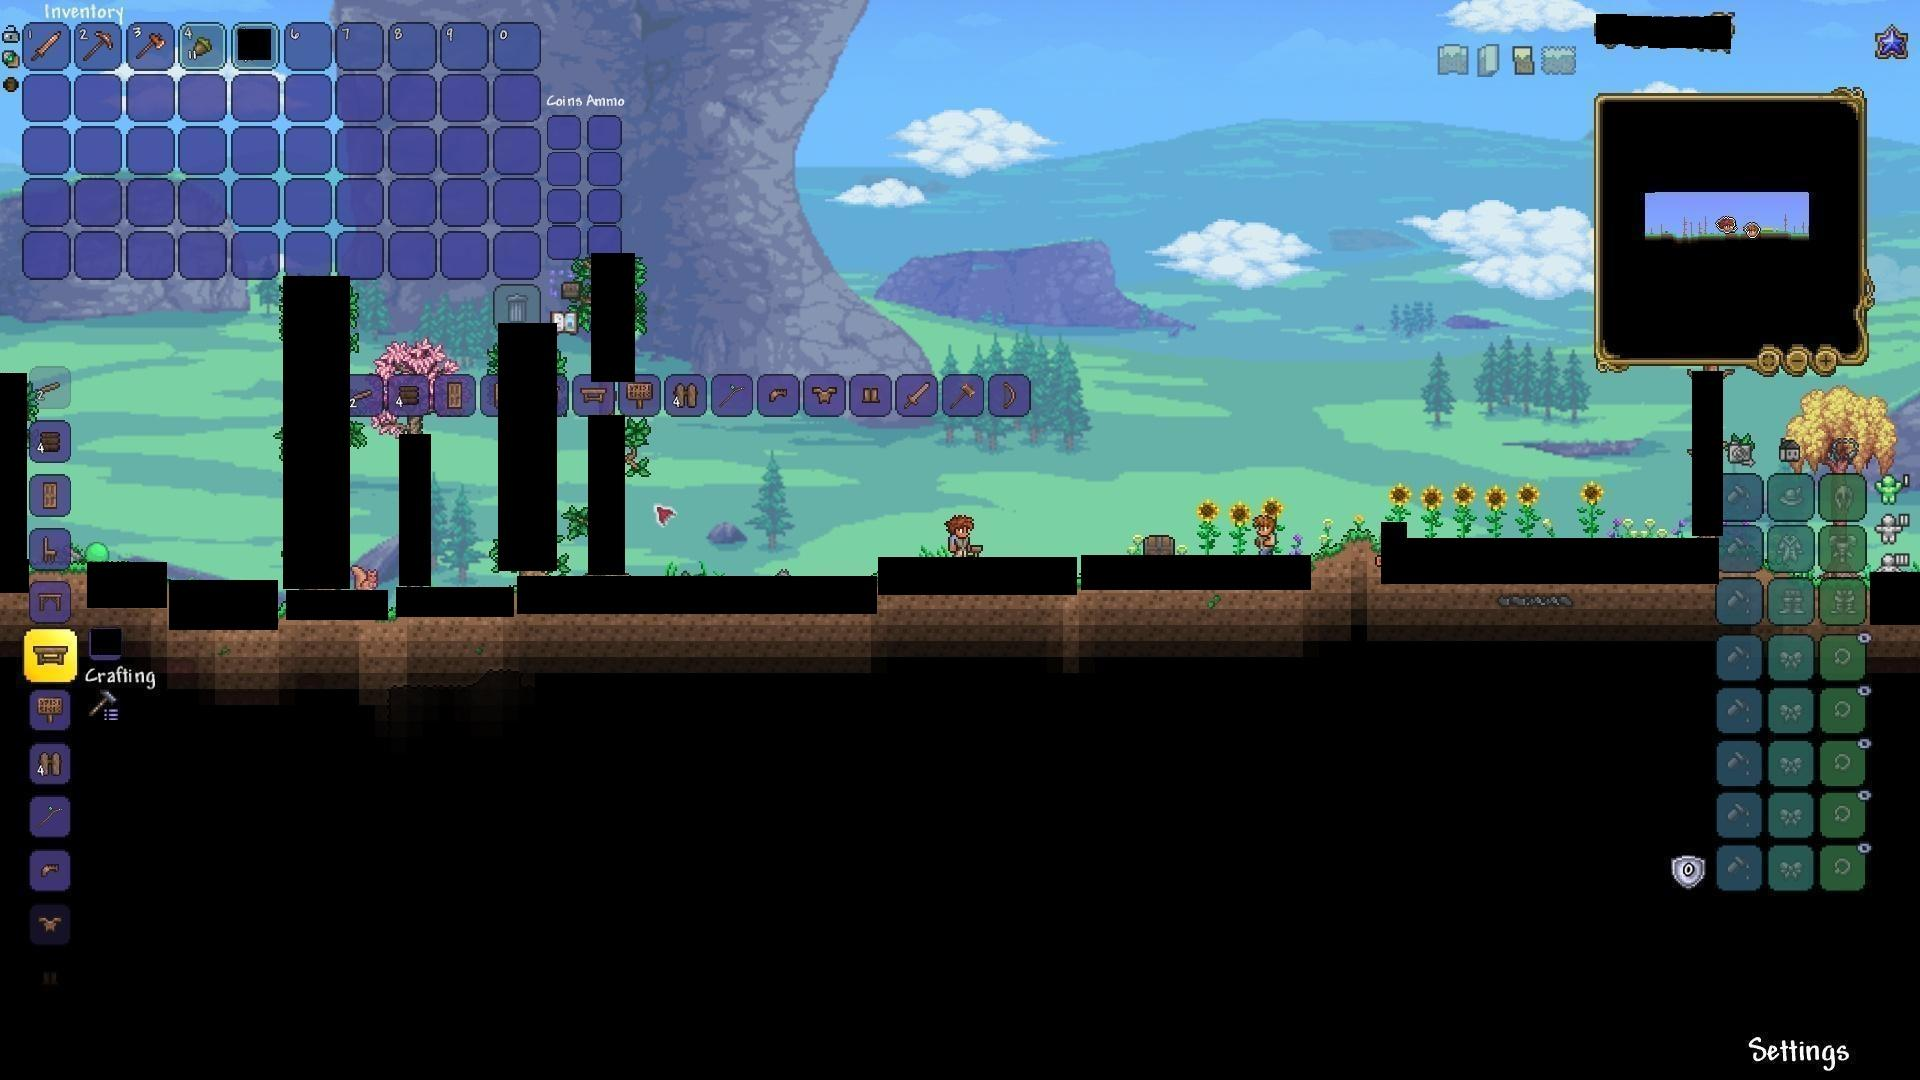breastplate: (37, 913, 65, 932), (812, 382, 840, 402)
dirt: (1313, 525, 1375, 574)
helmet: (33, 856, 65, 884), (762, 380, 793, 407)
legs: (857, 381, 882, 409)
slime: (82, 538, 107, 566)
workbench: (576, 384, 613, 409), (34, 642, 65, 669)
